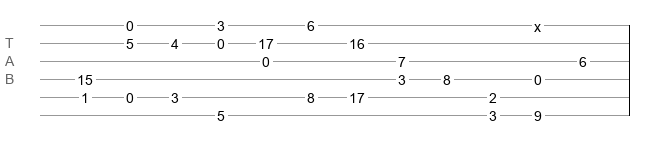0: (126, 18, 134, 28), (126, 90, 134, 100), (217, 36, 225, 46), (262, 54, 270, 64), (534, 72, 542, 82)
1: (81, 90, 89, 100)
15: (77, 72, 93, 82)
16: (349, 36, 365, 46)
17: (258, 36, 274, 46), (349, 90, 365, 100)
2: (489, 90, 497, 100)
3: (171, 90, 179, 100), (217, 18, 225, 28), (398, 72, 406, 82), (489, 108, 497, 118)
4: (171, 36, 179, 46)
5: (126, 36, 134, 46), (217, 108, 225, 118)
6: (307, 18, 315, 28), (579, 54, 587, 64)
7: (398, 54, 406, 64)
8: (307, 90, 315, 100), (443, 72, 451, 82)
9: (534, 108, 542, 118)
x: (534, 19, 541, 27)
